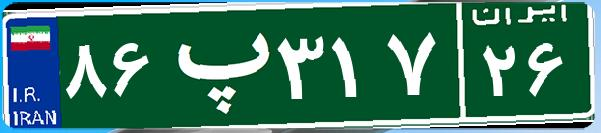1: (330, 28, 385, 110)
2: (475, 38, 525, 113)
3: (273, 28, 330, 110)
6: (110, 28, 158, 105), (525, 38, 570, 115)
7: (385, 28, 445, 110)
8: (57, 26, 110, 107)
پ: (158, 15, 273, 115)
